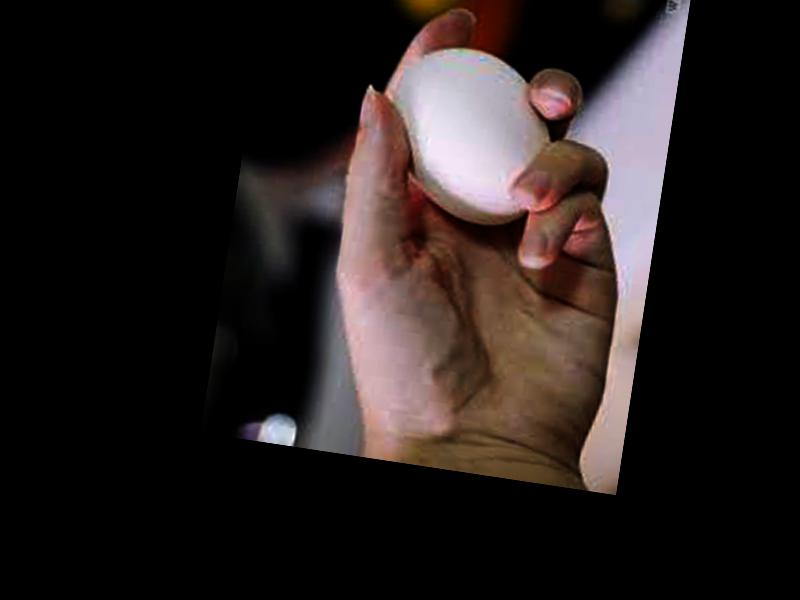Eggs: (378, 36, 561, 231)
